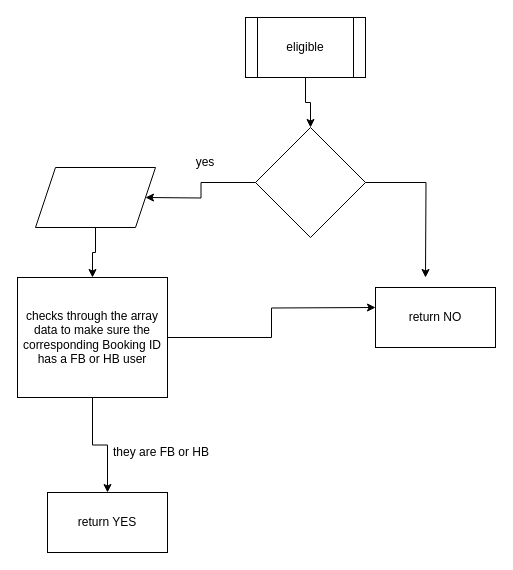
The diagram is 513 pixels wide and 570 high, and some of its shapes have lost their labels. The shapes that lost their labels are listed below. From the top down, each one's box as (x1, y1, x2, y2) in pixels, then its label:
(34, 166, 156, 228): enter bookingID
(254, 126, 366, 238): do you have a booking ID
